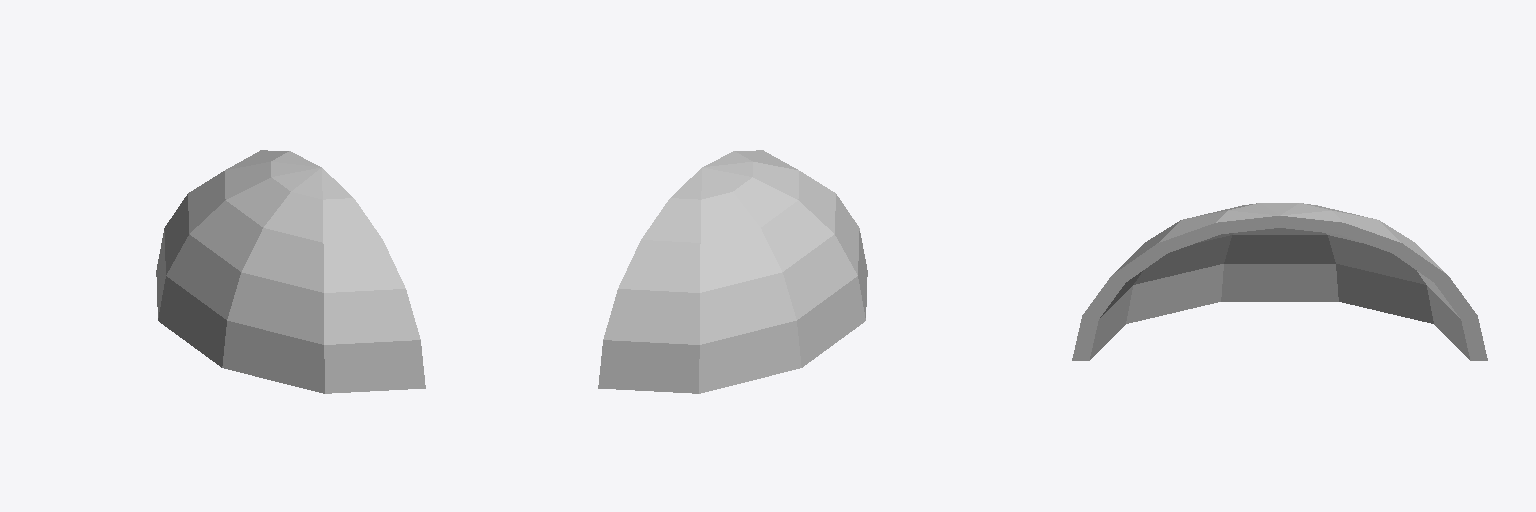
The model's file is leftEyelid.obj.
3 views of the same model, side by side, from view 1: azimuth 30°, elevation 25°; view 2: azimuth 150°, elevation 25°; view 3: azimuth 270°, elevation 25° (orthographic).
Visible parts, largest first — view 1: LeftEyelid; view 2: LeftEyelid; view 3: LeftEyelid.
Part boxes in pixels (x1,y1,x2,y2): LeftEyelid: (156,150,425,393); LeftEyelid: (598,150,867,393); LeftEyelid: (1072,203,1487,360).
Bounding box in the file's own units: 7.79 × 8.19 × 21.3.